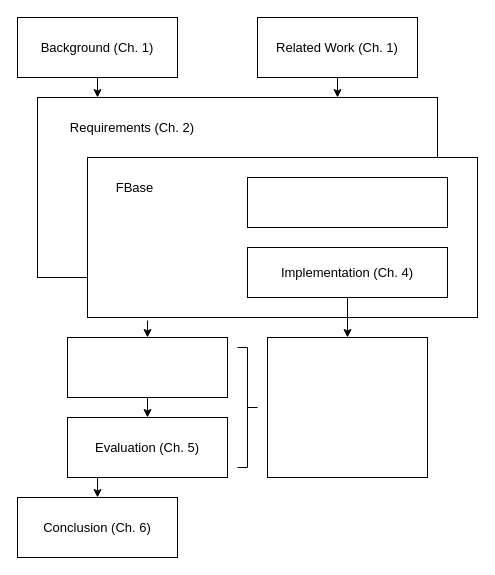
This 495x575 diagram has some shape labels left out. The shapes that lost their labels are listed below. From the top down, each one's box as (x1, y1, x2, y2) in pixels, then its label:
(246, 176, 448, 228): Design (Ch. 3)
(66, 336, 228, 398): Analyse (Ch. 5)
(266, 336, 428, 478): Use Case
